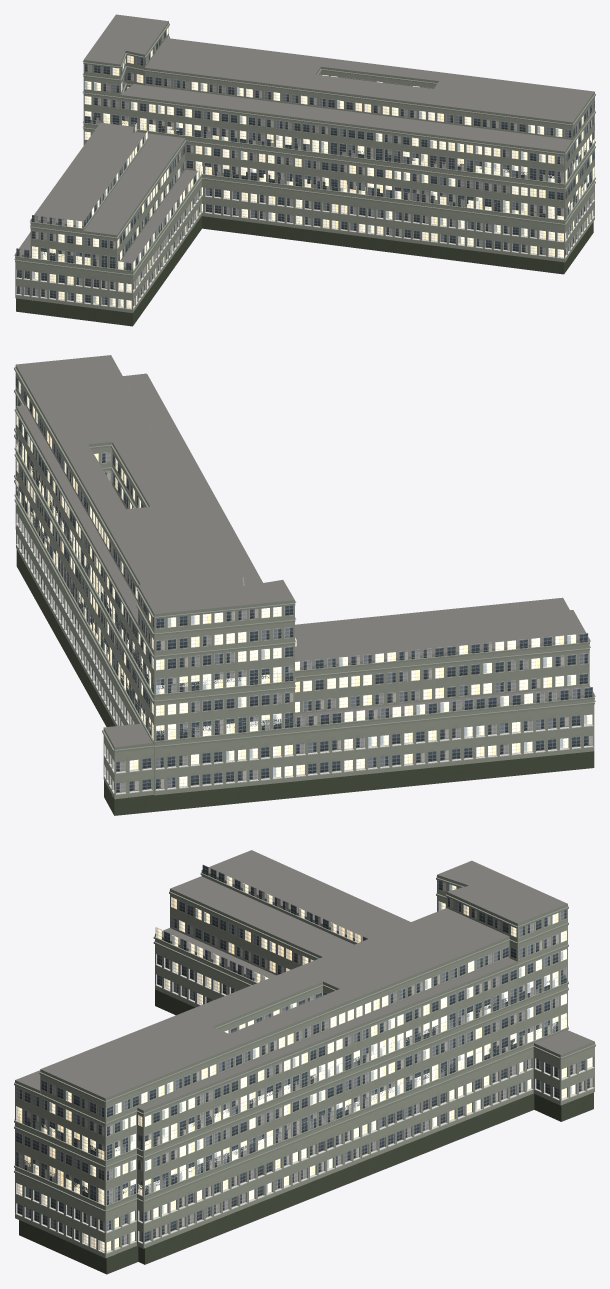
The model's file is z2c_gewerbeschule.glb.
3 views of the same model, one above another, from view 1: azimuth 30°, elevation 25°; view 2: azimuth 150°, elevation 25°; view 3: azimuth 270°, elevation 25° (orthographic). The views are drawn at different scales.
Parts seen in each view (by area): view 1: z2c_gewerbeschule; view 2: z2c_gewerbeschule; view 3: z2c_gewerbeschule.
Part boxes in pixels (box(x1,y1,x2,y2)): z2c_gewerbeschule: box(14, 14, 595, 326); z2c_gewerbeschule: box(14, 355, 595, 815); z2c_gewerbeschule: box(14, 850, 595, 1274).
Size of the model in its own units: 122 by 34.88 by 95.48.
Materials: 3 (3 with a texture image).
